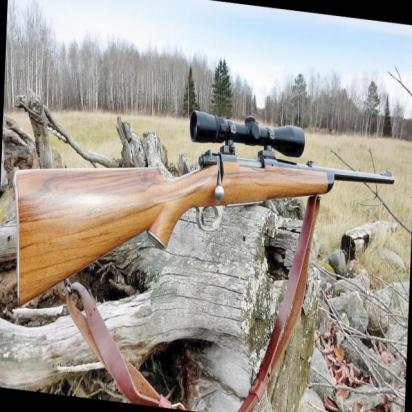Gun: (6, 86, 396, 352)
